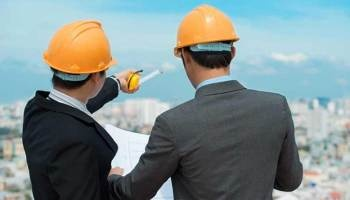yellow: (39, 16, 114, 103), (172, 3, 242, 84)
